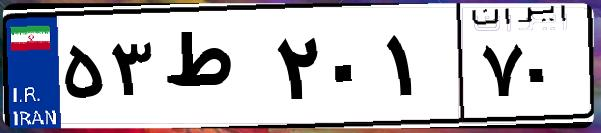0: (330, 28, 385, 110), (525, 38, 570, 115)
1: (385, 28, 445, 110)
2: (270, 28, 330, 110)
3: (110, 28, 158, 98)
5: (57, 26, 110, 100)
7: (475, 38, 525, 113)
ط: (158, 20, 270, 120)
